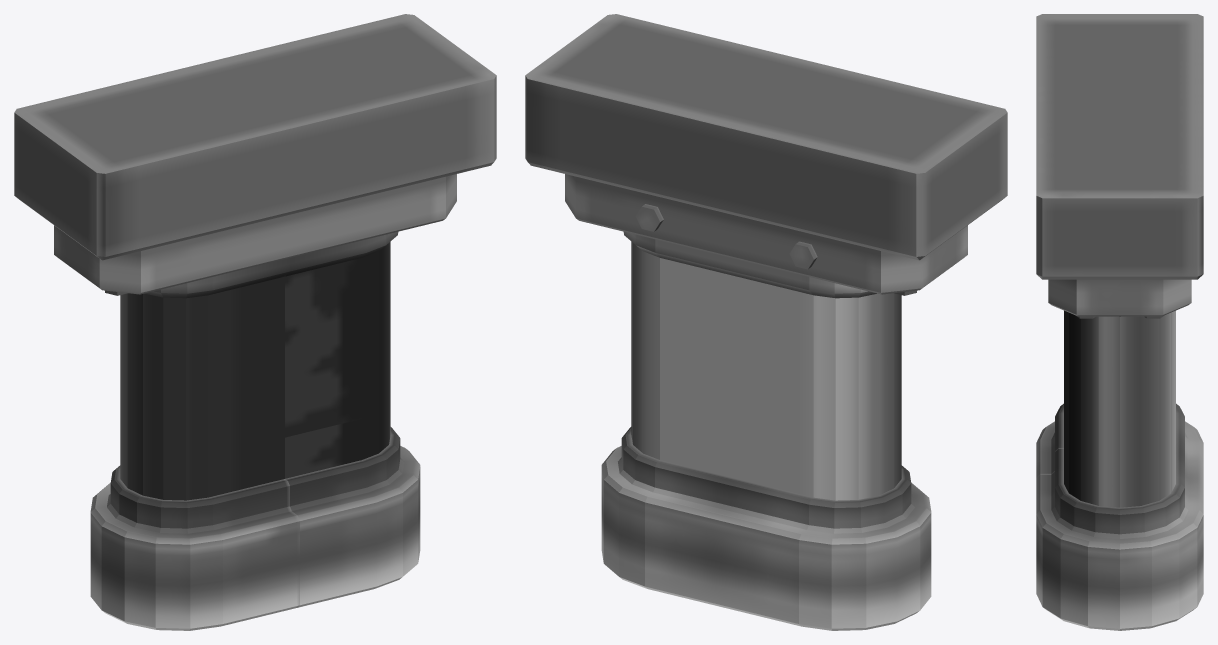
File: crusher_2wide_1.fbx
3 renders of one model, left to right at view 1: azimuth 30°, elevation 25°; view 2: azimuth 150°, elevation 25°; view 3: azimuth 270°, elevation 25°, orthographic. The views are drawn at different scales.
Visible parts, largest first — view 1: top2, bottom2, middle2; view 2: top2, bottom2, middle2; view 3: top2, bottom2, middle2.
Boxes of the visible parts, x1=… form: top2: x1=14, y1=14, x2=496, y2=298; bottom2: x1=90, y1=394, x2=420, y2=630; middle2: x1=120, y1=241, x2=390, y2=459; top2: x1=525, y1=14, x2=1007, y2=298; bottom2: x1=601, y1=394, x2=931, y2=630; middle2: x1=631, y1=241, x2=901, y2=459; top2: x1=1036, y1=14, x2=1203, y2=318; bottom2: x1=1036, y1=403, x2=1203, y2=630; middle2: x1=1064, y1=310, x2=1175, y2=468.
Size of the model in its own units: 2.6 by 3 by 1.
